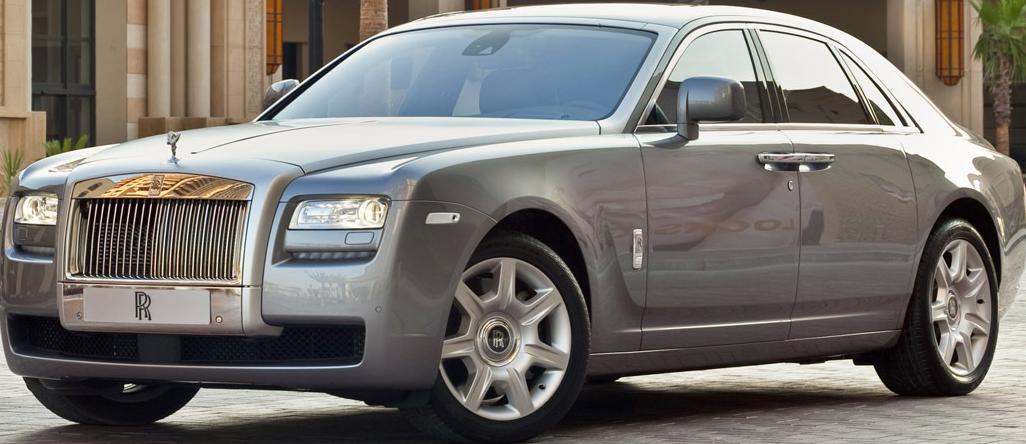front_view: (2, 167, 425, 410)
headlight: (271, 185, 398, 287)
side_glass: (620, 24, 910, 140)
